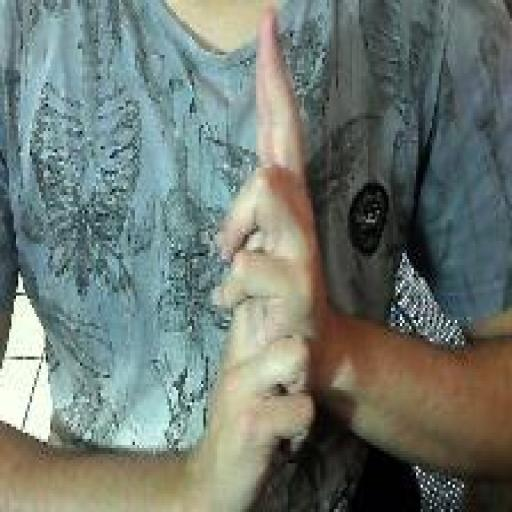Hitsuji -ram-: (207, 6, 326, 512)
